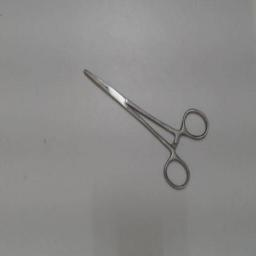Mayo Needle Holder: (78, 60, 214, 196)
